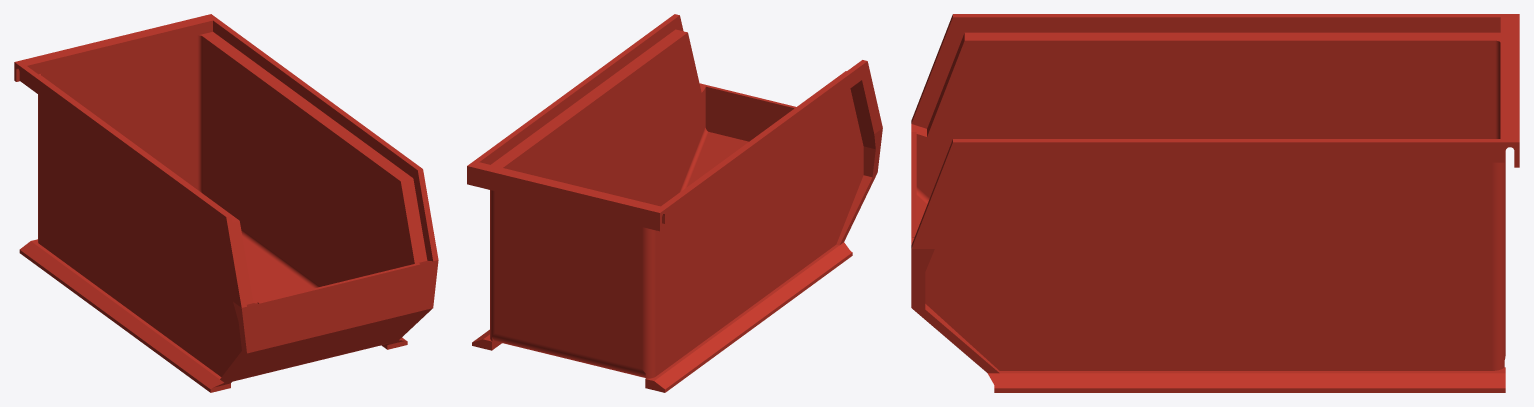
Rendered from AkroBinsRed.fbx.
3 renders of one model, left to right at view 1: azimuth 30°, elevation 25°; view 2: azimuth 150°, elevation 25°; view 3: azimuth 270°, elevation 25°, orthographic. The views are drawn at different scales.
Parts seen in each view (by area): view 1: Body1; view 2: Body1; view 3: Body1.
Part boxes in pixels (bbox=[...]): Body1: bbox=[14, 14, 438, 392]; Body1: bbox=[467, 14, 882, 392]; Body1: bbox=[911, 14, 1519, 392].
Bounding box in the file's own units: 13.97 × 12.7 × 27.94.
